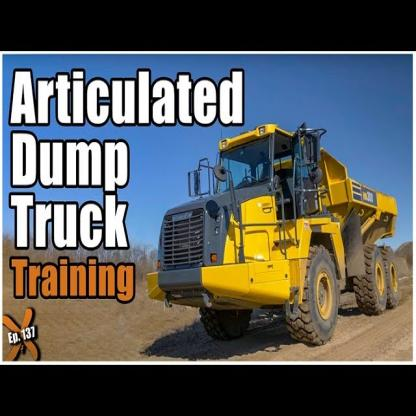dump_truck: (147, 124, 404, 350)
